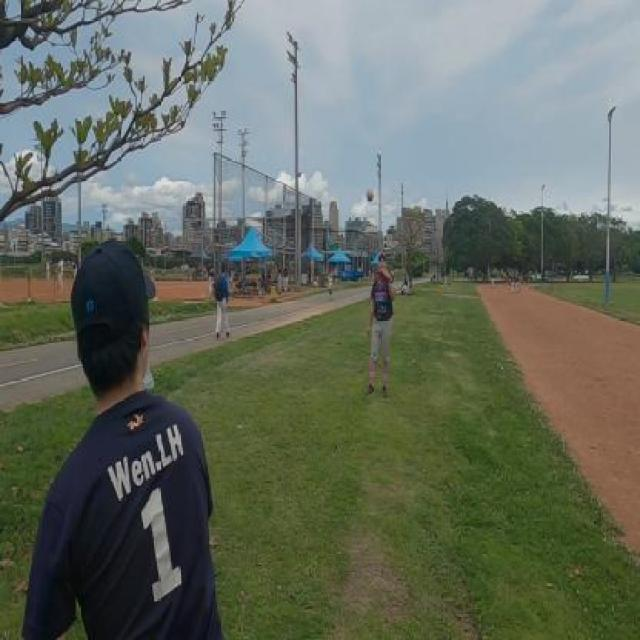baseball: (366, 188, 374, 202)
